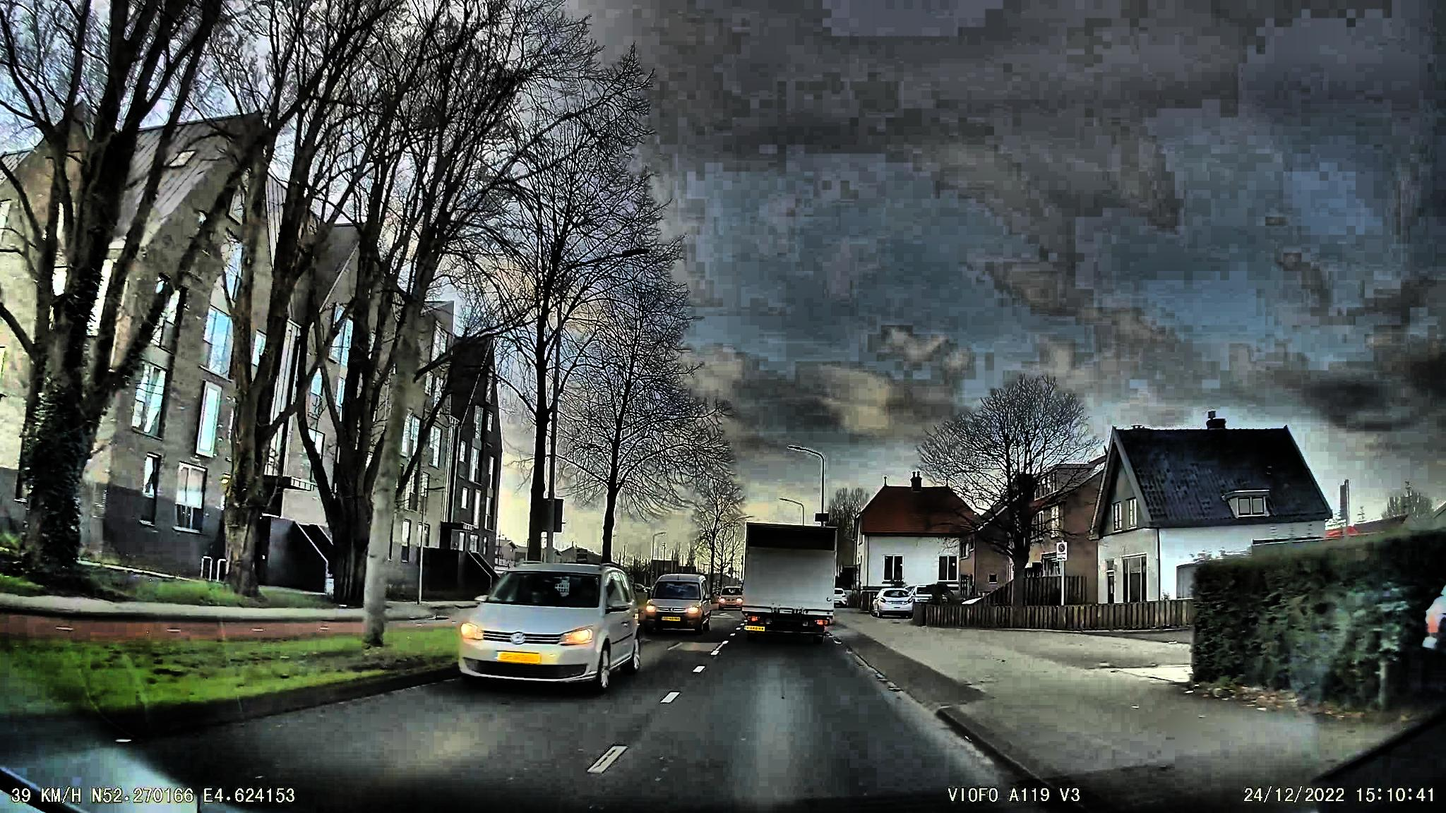Roads: (173, 610, 950, 813)
